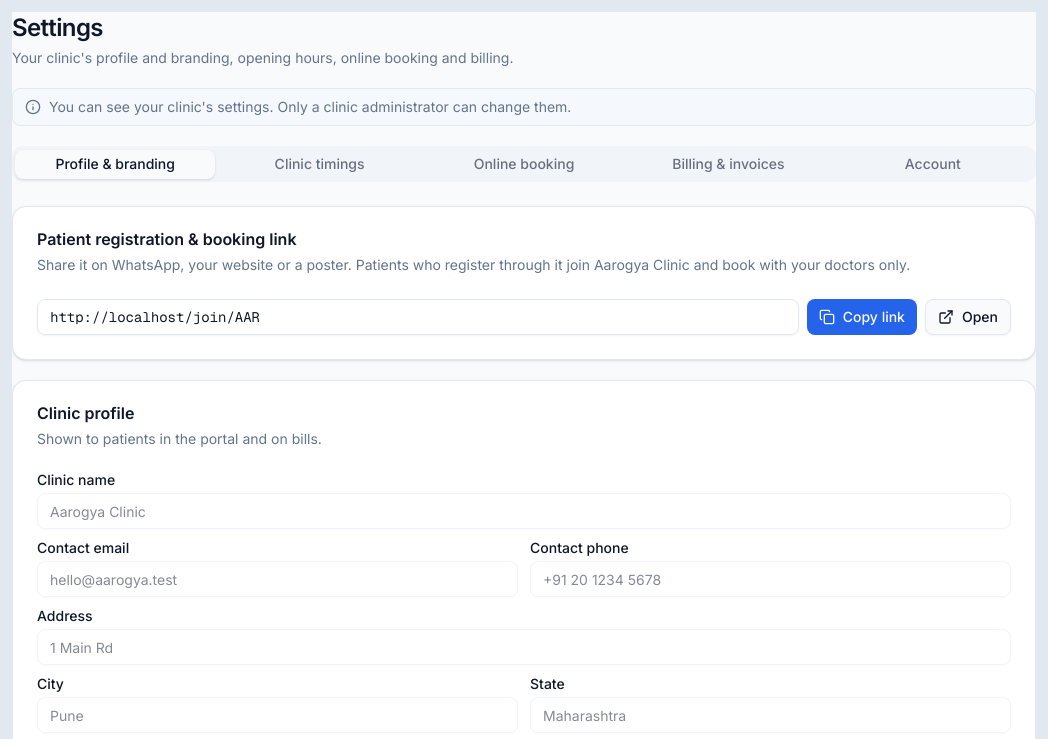
Test: live audit log, expenses, settings and plan › settings: read-only for someone who can't edit the clinic
This screenshot has width=1048, height=739.
Expected: the field with id "clinic-name" is disabled, [37,493,1011,529]
Press the mouse on the tab "Online booking" at x=524, y=164, box [424,150,624,178]
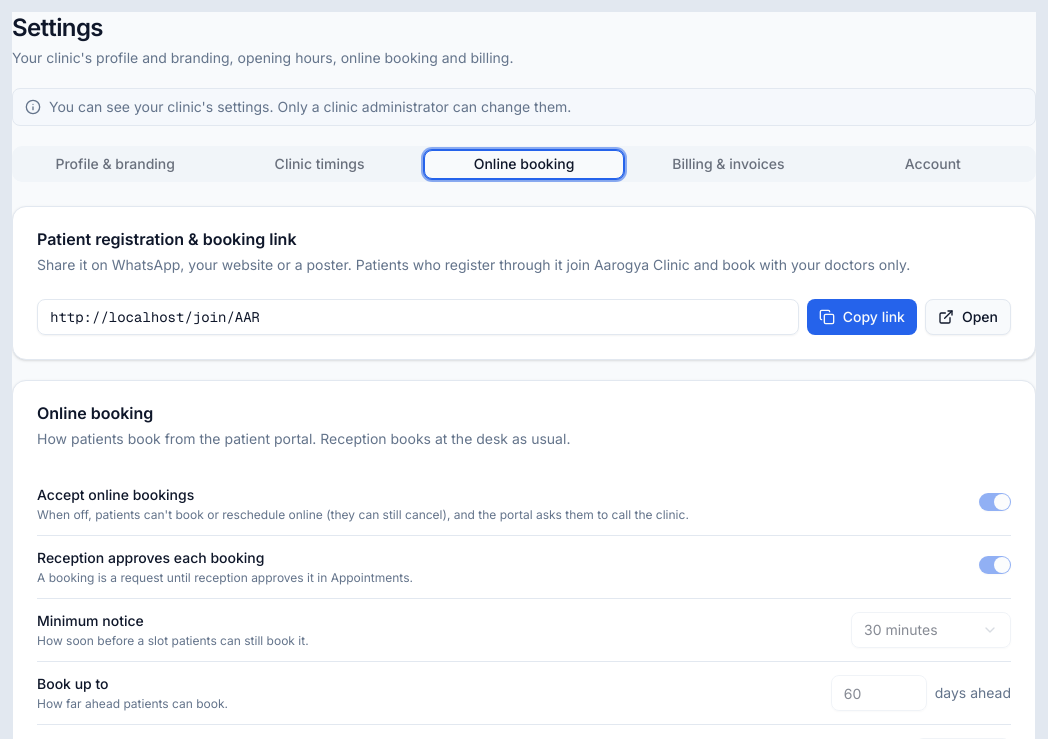
Expected: the switch with id "bk-on" is disabled, [979,493,1011,511]
